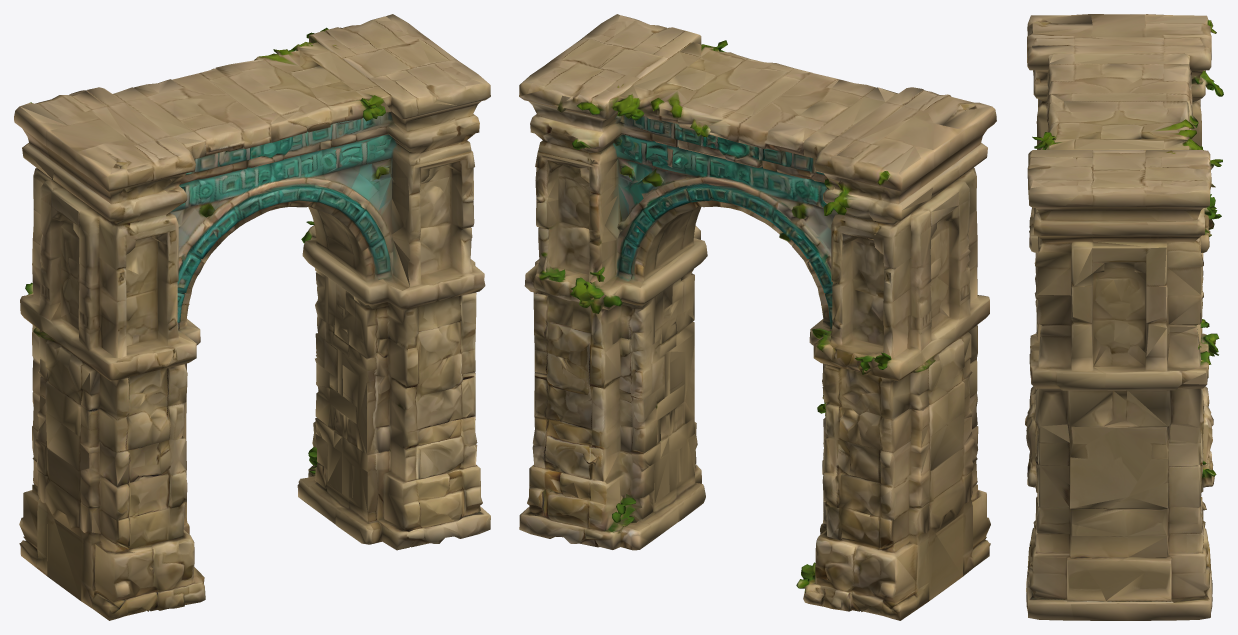
File: arch.glb
3 renders of one model, left to right at view 1: azimuth 30°, elevation 25°; view 2: azimuth 150°, elevation 25°; view 3: azimuth 270°, elevation 25°, orthographic. The views are drawn at different scales.
Visible parts, largest first — view 1: tripo_node_1cb51d57-6476-488c-b6f1-dc3f6faaffc4; view 2: tripo_node_1cb51d57-6476-488c-b6f1-dc3f6faaffc4; view 3: tripo_node_1cb51d57-6476-488c-b6f1-dc3f6faaffc4.
Part boxes in pixels (left/top/right/bottom): tripo_node_1cb51d57-6476-488c-b6f1-dc3f6faaffc4: left=14, top=14, right=490, bottom=620; tripo_node_1cb51d57-6476-488c-b6f1-dc3f6faaffc4: left=519, top=14, right=996, bottom=620; tripo_node_1cb51d57-6476-488c-b6f1-dc3f6faaffc4: left=1025, top=14, right=1223, bottom=620.
Bounding box in the file's own units: 9.77 × 11 × 4.57.
1 material, 1 textured.
